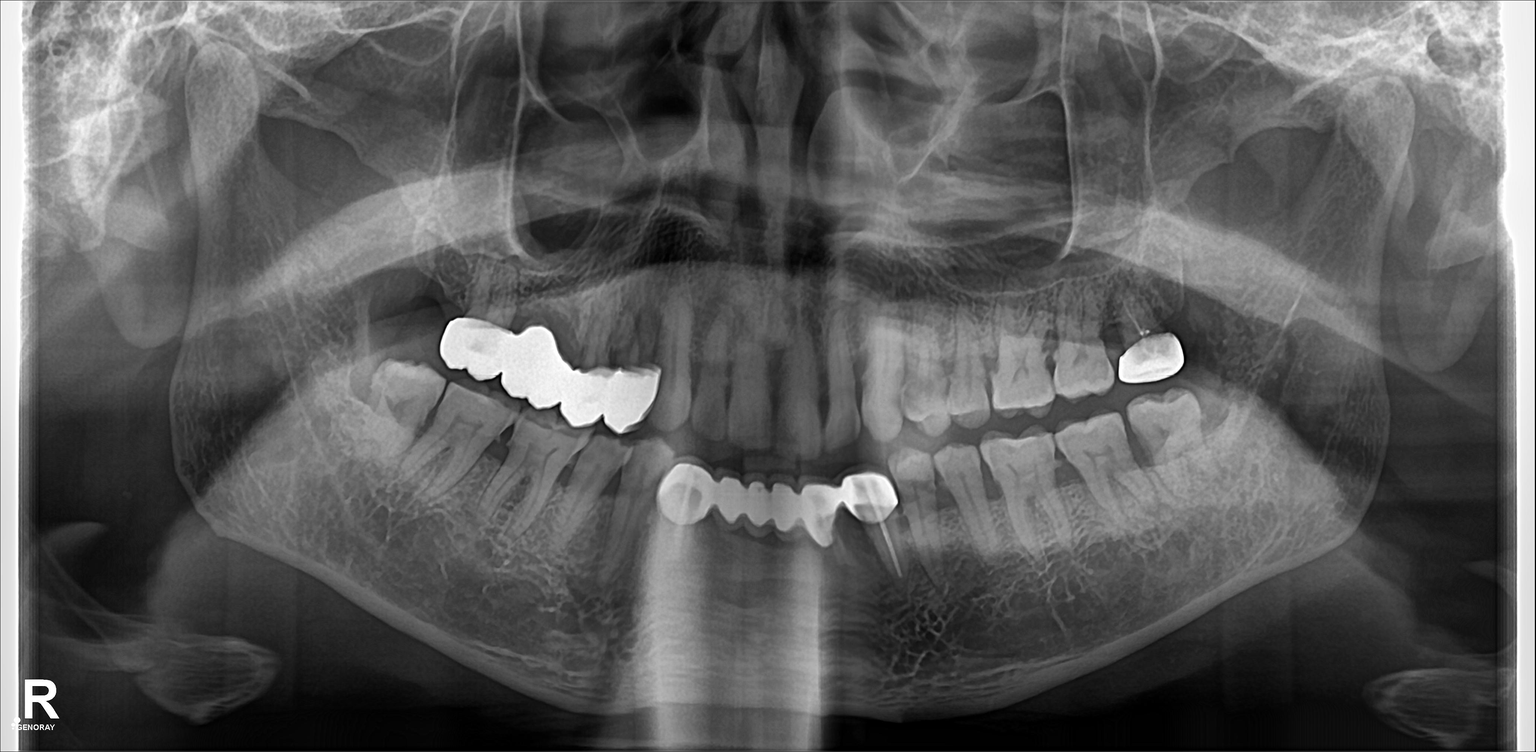Endodontically Treated Tooth: (836, 478, 909, 582), (1114, 287, 1183, 375), (456, 266, 510, 375), (654, 471, 708, 578), (611, 311, 653, 434)
Impacted Third Molar: (1138, 396, 1213, 490)
Missing Tooth: (380, 266, 435, 353)
